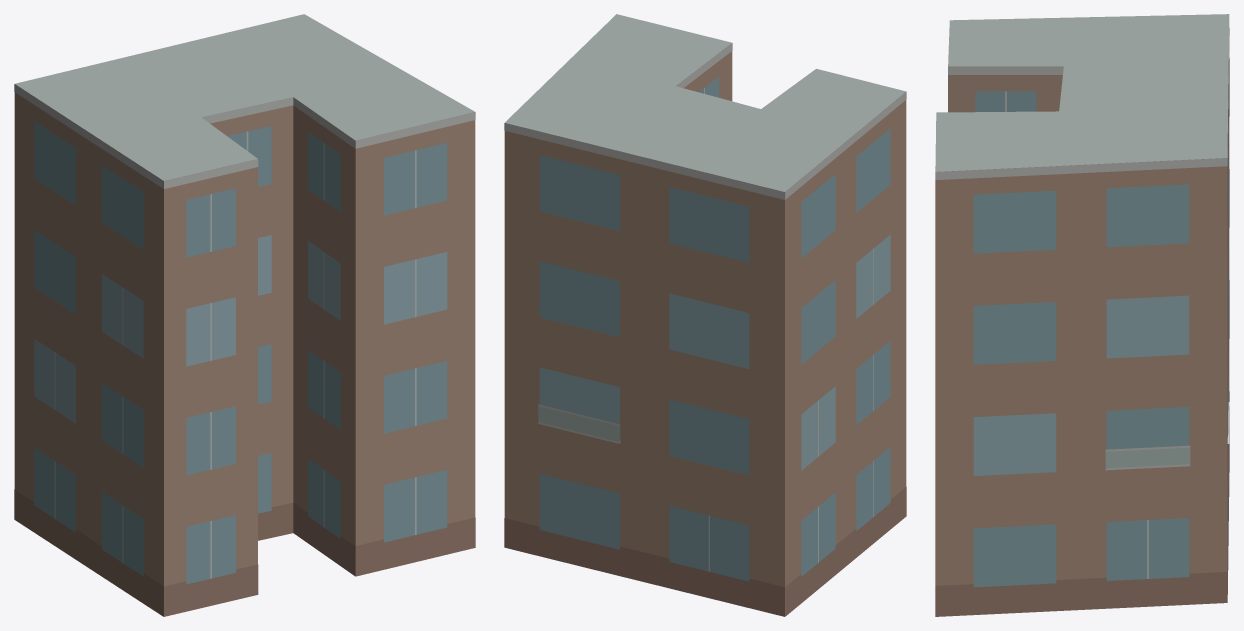
Rendered from survey-upis-32472119.glb.
3 renders of one model, left to right at view 1: azimuth 30°, elevation 25°; view 2: azimuth 150°, elevation 25°; view 3: azimuth 270°, elevation 25°, orthographic. The views are drawn at different scales.
Parts seen in each view (by area): view 1: survey-upis-32472119.tmp; view 2: survey-upis-32472119.tmp; view 3: survey-upis-32472119.tmp.
Part boxes in pixels (bbox=[...]): survey-upis-32472119.tmp: bbox=[14, 14, 475, 616]; survey-upis-32472119.tmp: bbox=[504, 14, 906, 616]; survey-upis-32472119.tmp: bbox=[935, 14, 1229, 616].
Bounding box in the file's own units: 9.98 × 13.1 × 7.86.
